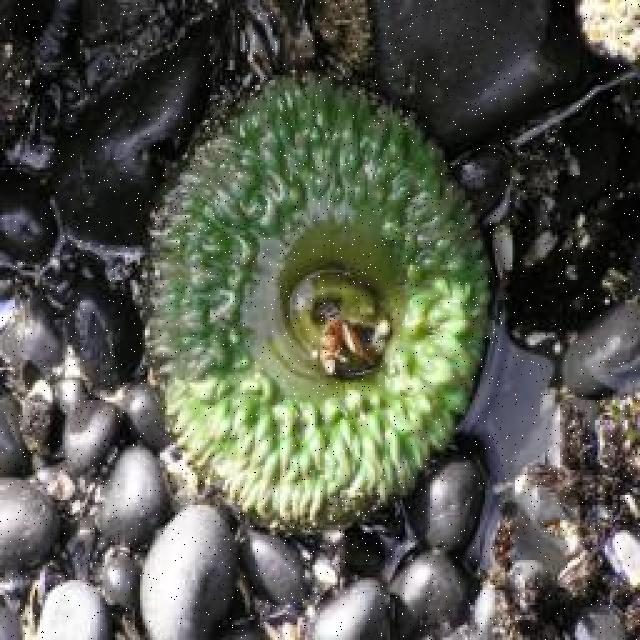reefs: (140, 75, 491, 539)
